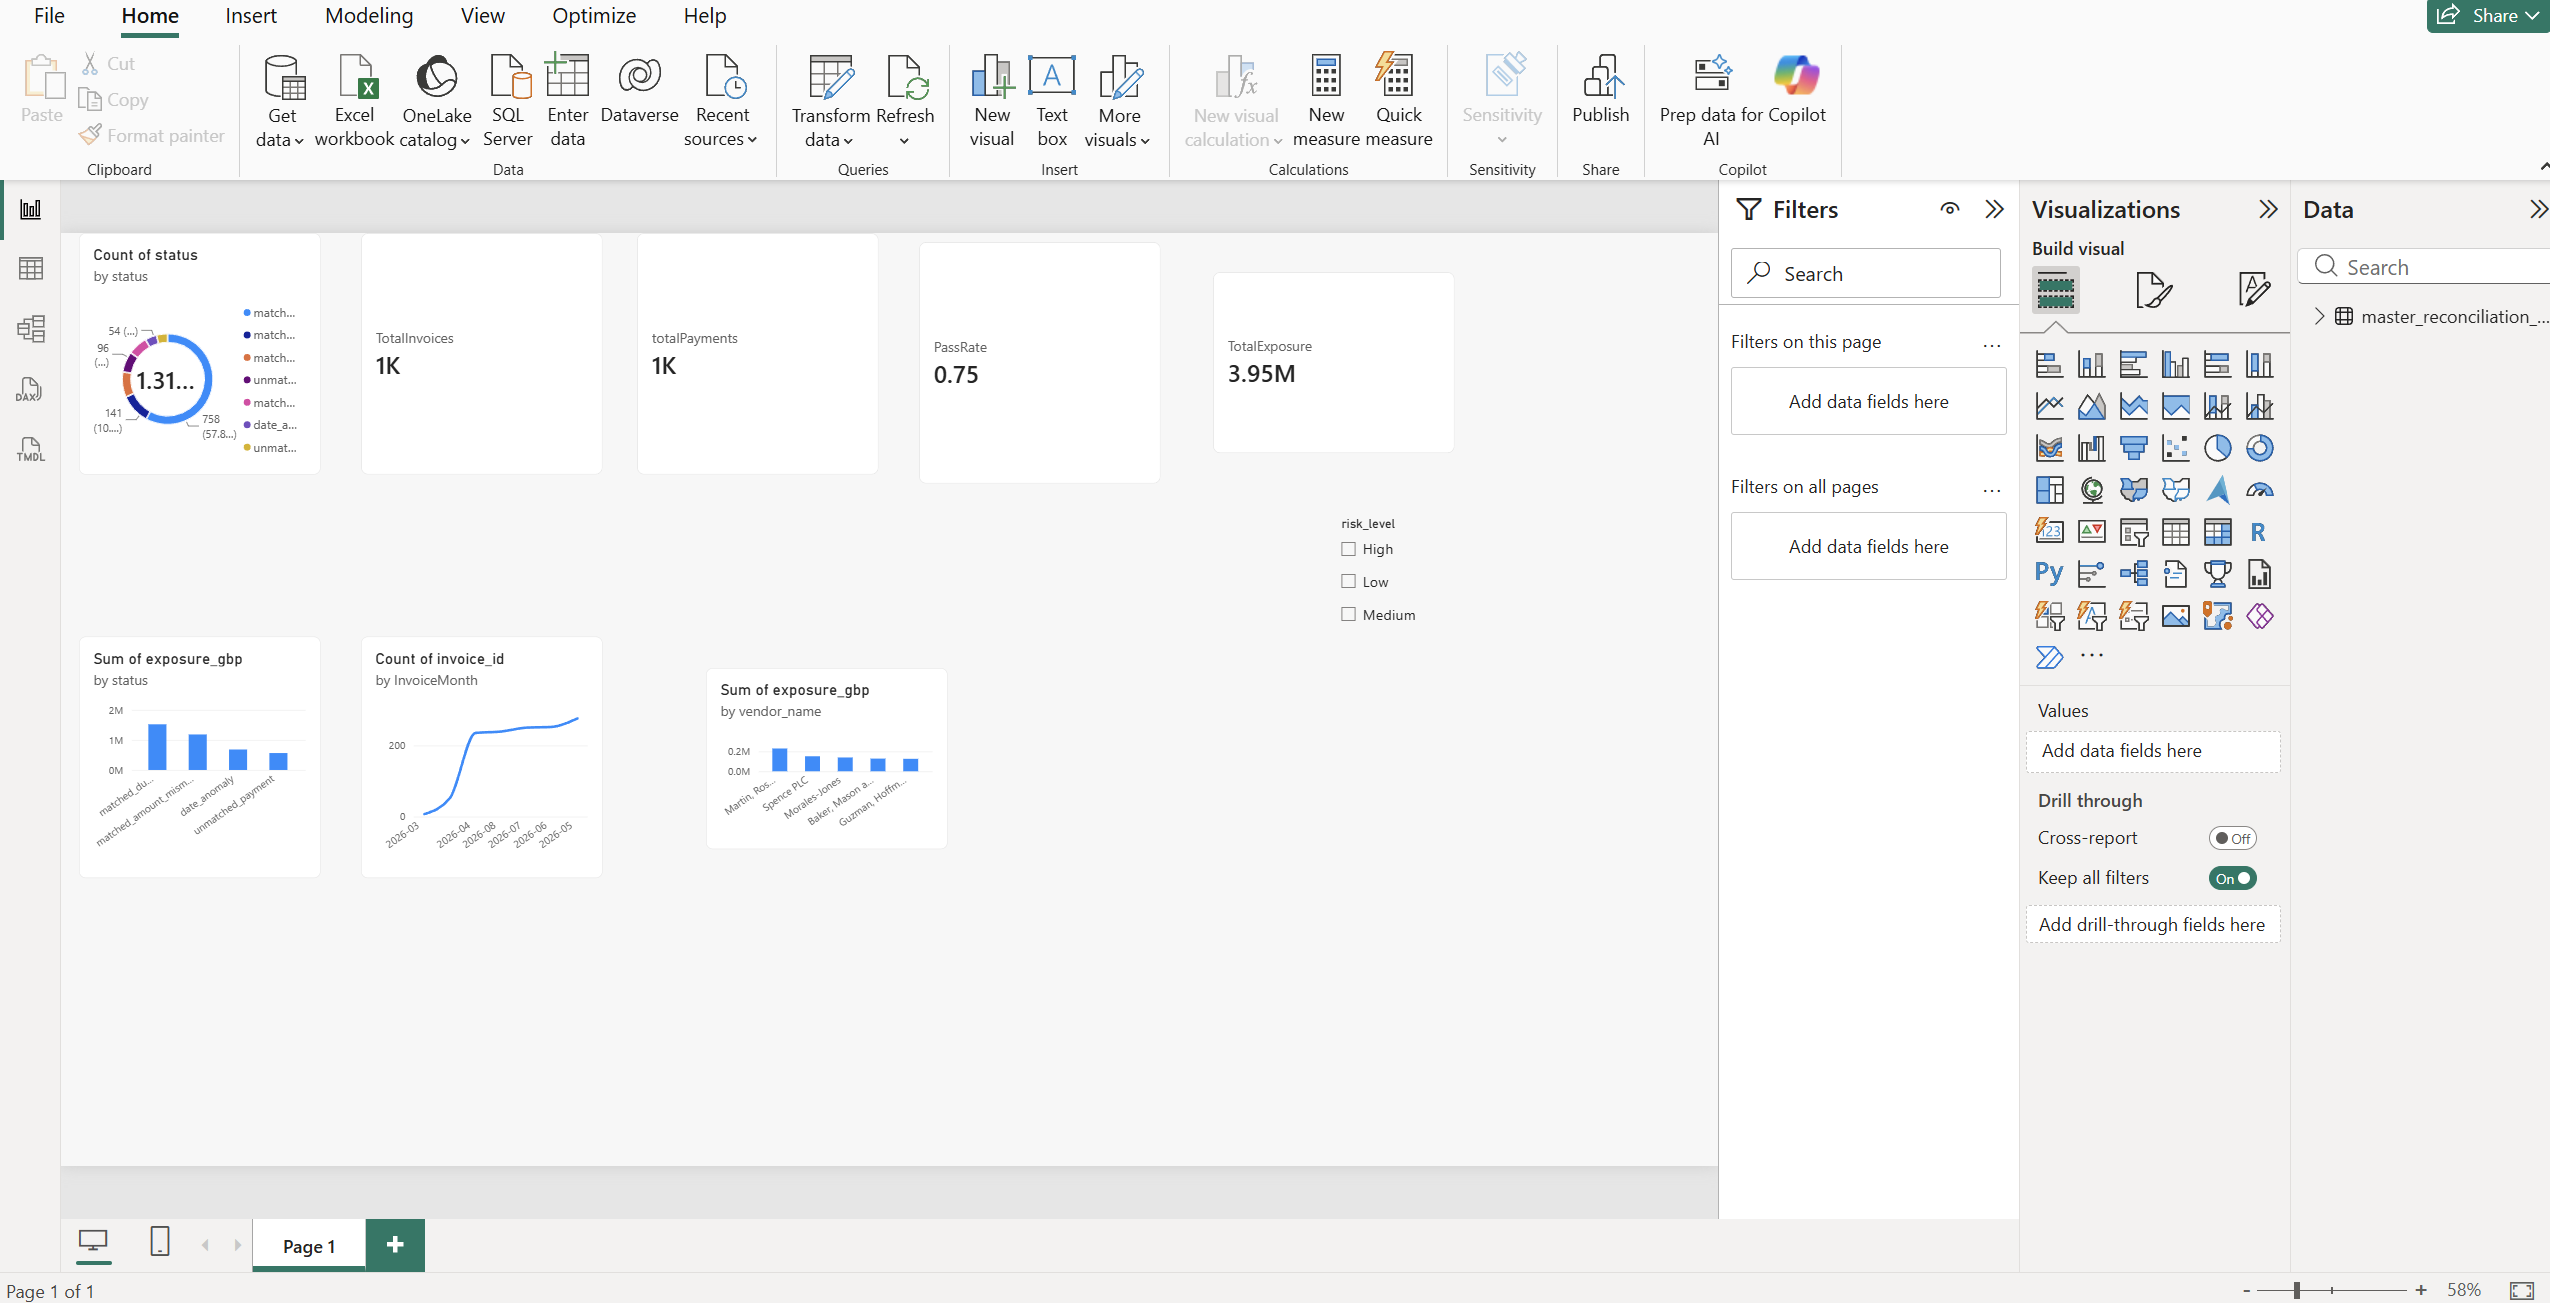

Layout of this report page (visuals, bound fields, positions):
{"tool":"powerbi","page":{"name":"Page 1","canvas":[1920,1080],"ordinal":0},"visuals":[{"type":"donutChart","fields":{"Category":["master_reconciliation_export.status"],"Y":["CountNonNull(master_reconciliation_export.status)"]},"box":[20,0,280,280],"z":0},{"type":"clusteredColumnChart","fields":{"Category":["master_reconciliation_export.status"],"Y":["Sum(master_reconciliation_export.exposure_gbp)"]},"box":[20,468.3,280,280],"z":1000},{"type":"lineChart","fields":{"Category":["master_reconciliation_export.InvoiceMonth"],"Y":["CountNonNull(master_reconciliation_export.invoice_id)"]},"box":[348.3,468.3,280,280],"z":2000},{"type":"clusteredColumnChart","fields":{"Category":["master_reconciliation_export.vendor_name"],"Y":["Sum(master_reconciliation_export.exposure_gbp)"]},"box":[746.7,503.3,280,210],"z":2001},{"type":"cardVisual","fields":{"Data":["master_reconciliation_export.TotalInvoices"]},"box":[348.3,0,280,280],"z":2002},{"type":"cardVisual","fields":{"Data":["master_reconciliation_export.totalPayments"]},"box":[666.7,0,280,280],"z":2003},{"type":"cardVisual","fields":{"Data":["master_reconciliation_export.PassRate"]},"box":[995,10,280,280],"z":2004},{"type":"cardVisual","fields":{"Data":["master_reconciliation_export.TotalExposure"]},"box":[1335,45,280,210],"z":2005},{"type":"slicer","fields":{"Values":["master_reconciliation_export.risk_level"]},"box":[1475,328.3,280,280],"z":2006}]}

Visuals, with their boxes on the page's 1920x1080 design canvas (x1, y1, x2, y2). These are canvas units, not pixel positions in the 2550x1303 screenshot, which may show the page scaled, cropped or inside an application window:
donutChart - master_reconciliation_export.status x CountNonNull(master_reconciliation_export.status): x1=20, y1=0, x2=300, y2=280
clusteredColumnChart - master_reconciliation_export.status x Sum(master_reconciliation_export.exposure_gbp): x1=20, y1=468, x2=300, y2=748
lineChart - master_reconciliation_export.InvoiceMonth x CountNonNull(master_reconciliation_export.invoice_id): x1=348, y1=468, x2=628, y2=748
clusteredColumnChart - master_reconciliation_export.vendor_name x Sum(master_reconciliation_export.exposure_gbp): x1=747, y1=503, x2=1027, y2=713
cardVisual - master_reconciliation_export.TotalInvoices: x1=348, y1=0, x2=628, y2=280
cardVisual - master_reconciliation_export.totalPayments: x1=667, y1=0, x2=947, y2=280
cardVisual - master_reconciliation_export.PassRate: x1=995, y1=10, x2=1275, y2=290
cardVisual - master_reconciliation_export.TotalExposure: x1=1335, y1=45, x2=1615, y2=255
slicer - master_reconciliation_export.risk_level: x1=1475, y1=328, x2=1755, y2=608
